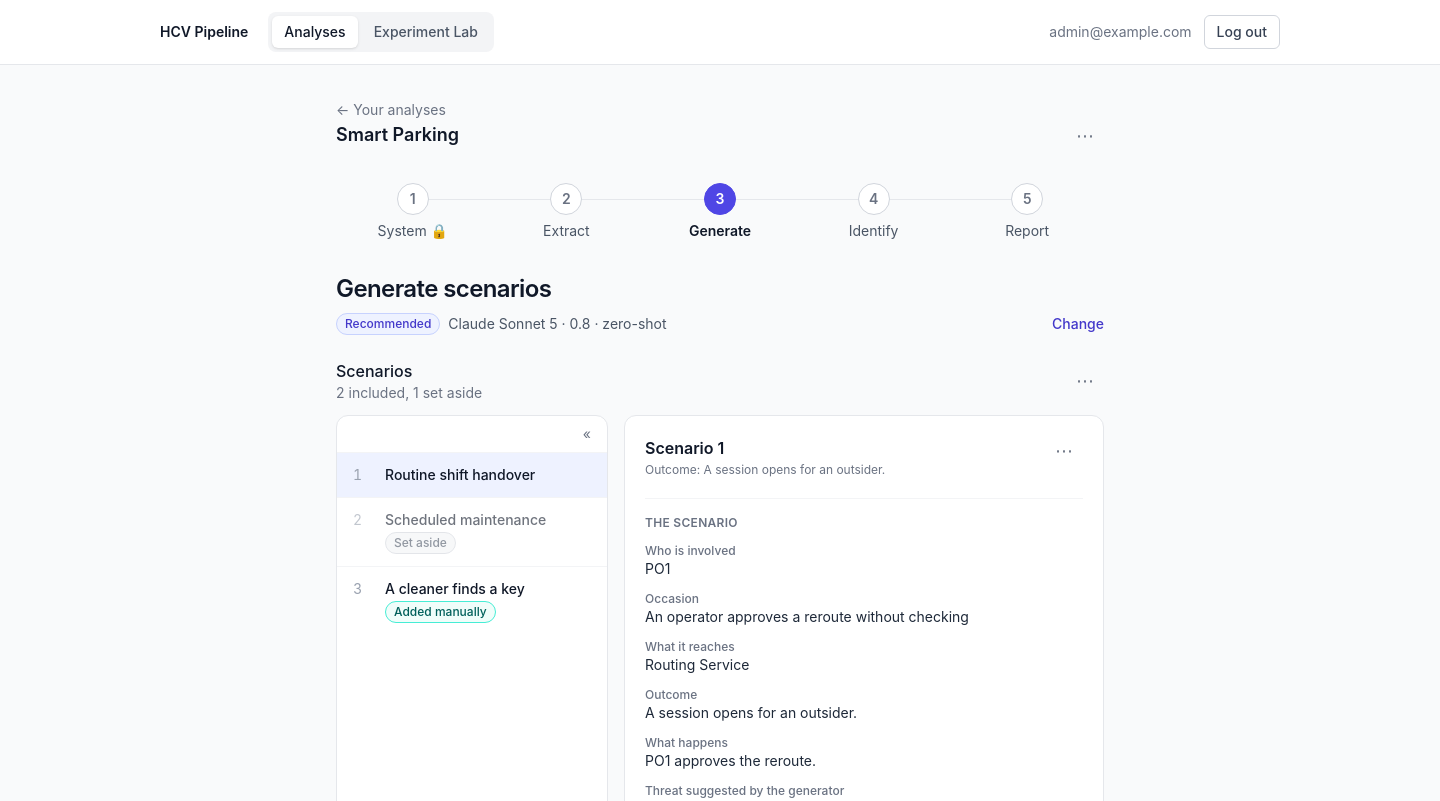
Test: Wide screens: list and detail › starts with the list open, collapses it to numbers and remembers that
expect the text "Routine shift handover" is shown: met, box [385, 466, 535, 483]
What coordinates should you click on to do the following:
click the button named "Collapse list"
I would click on:
 (587, 434)
Its box is [575, 422, 599, 446].
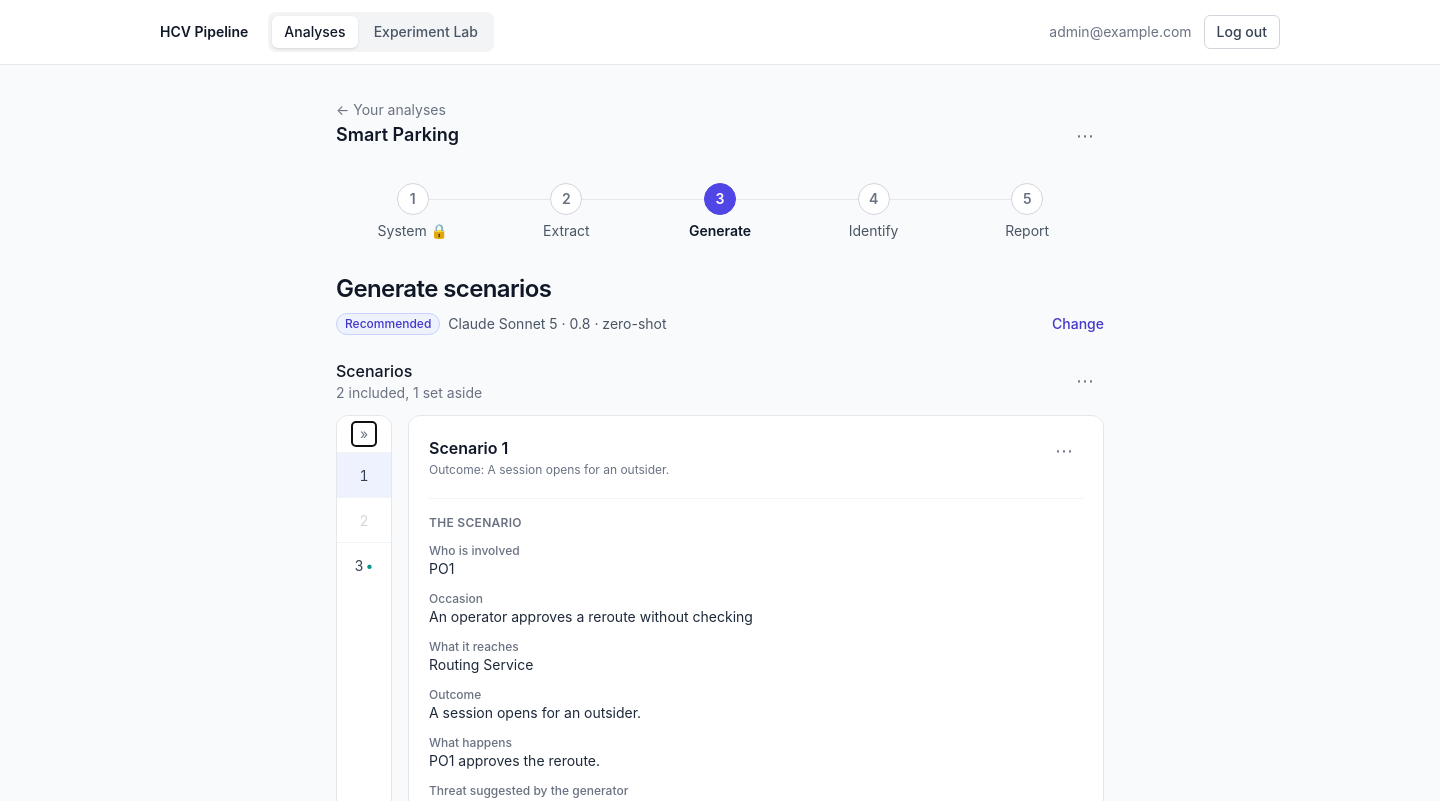
expect the button "Routine shift handover" is gone: met
What coordinates should you click on to do the following:
click the button named "A cleaner finds a key"
I would click on:
 (364, 565)
Its box is [337, 543, 391, 587].
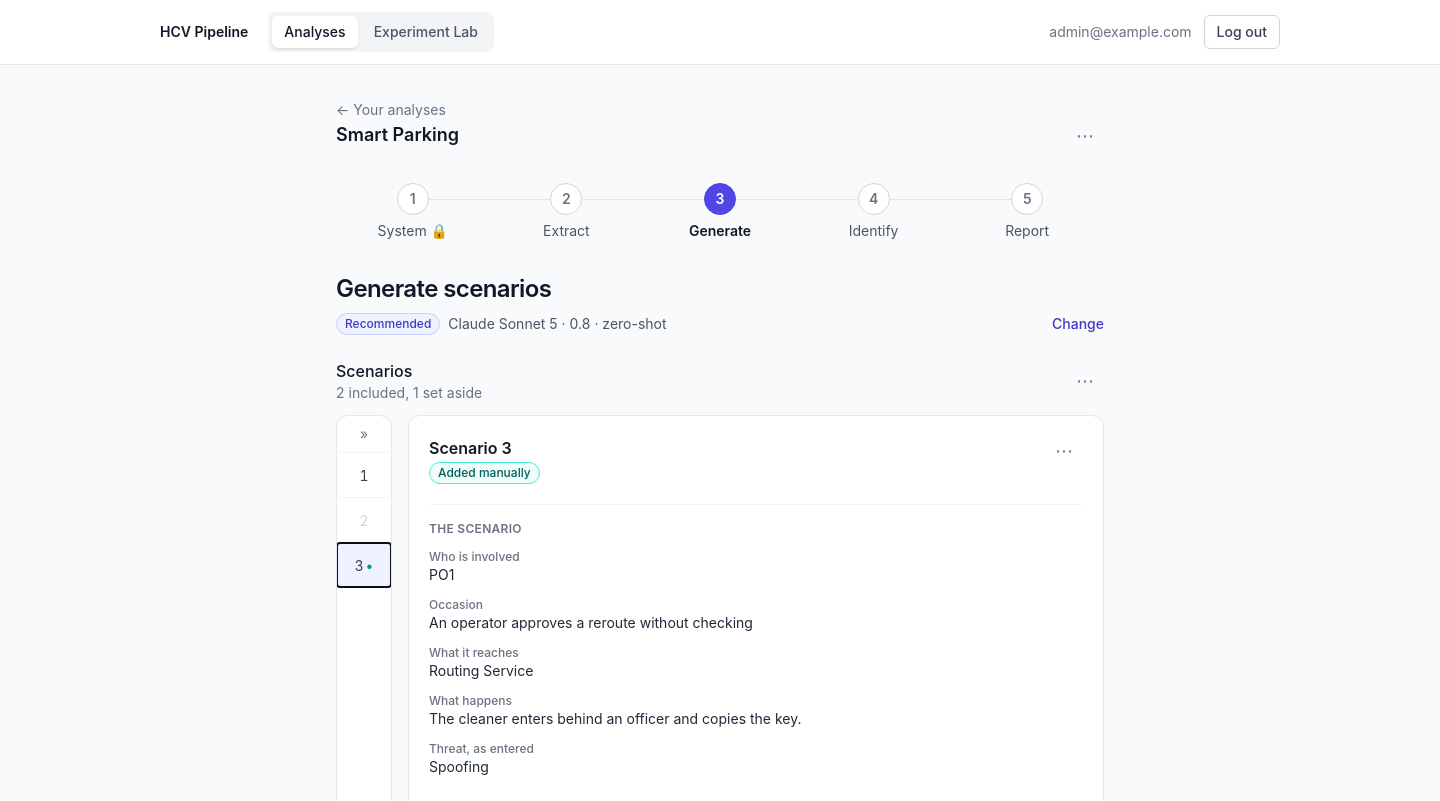
expect the heading "Scenario 3" is shown: met, box [429, 438, 512, 458]
What coordinates should you click on to do the following:
click the button named "Expand list"
I would click on:
 (364, 434)
Its box is [352, 422, 376, 446].
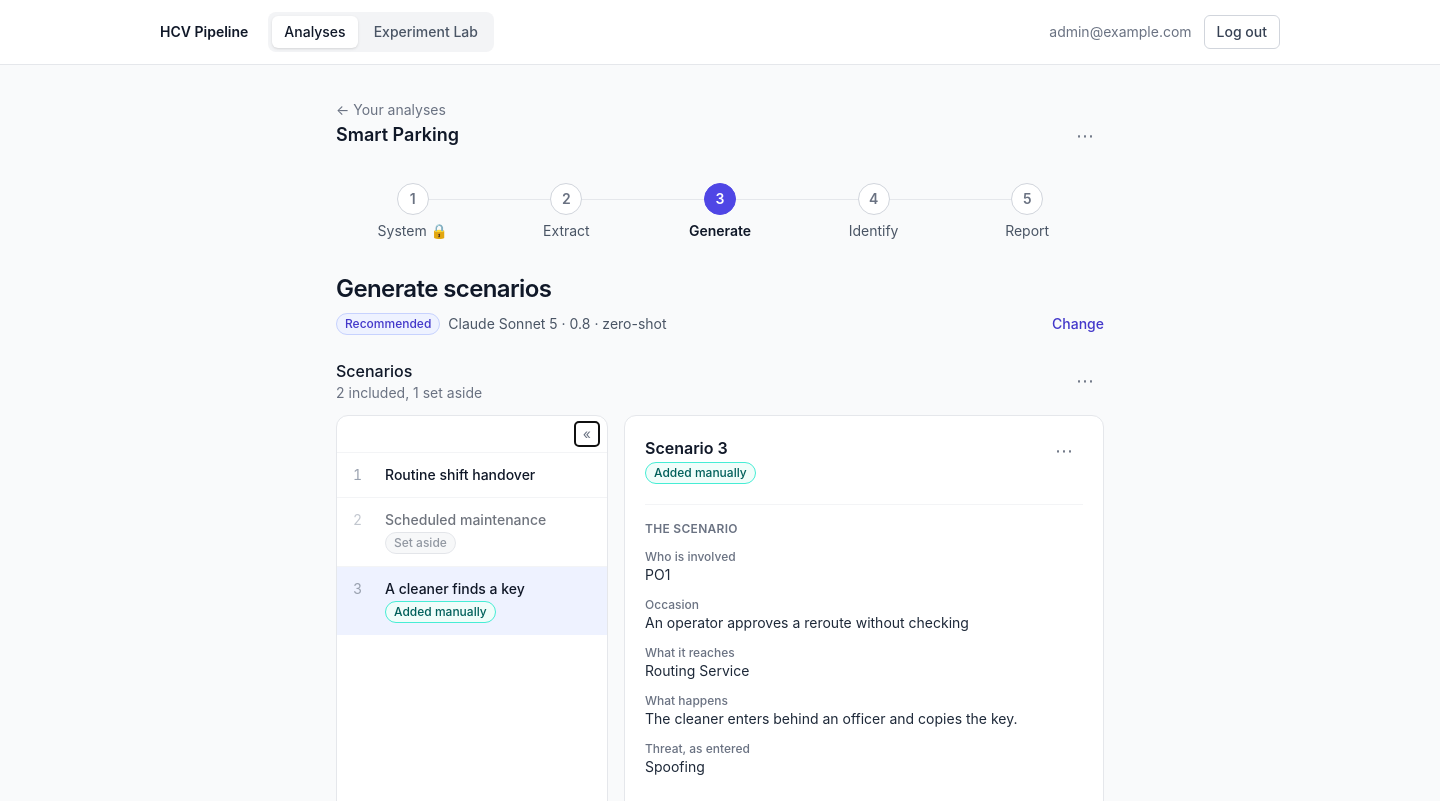
expect the text "Routine shift handover" is shown: met, box [385, 466, 535, 483]
